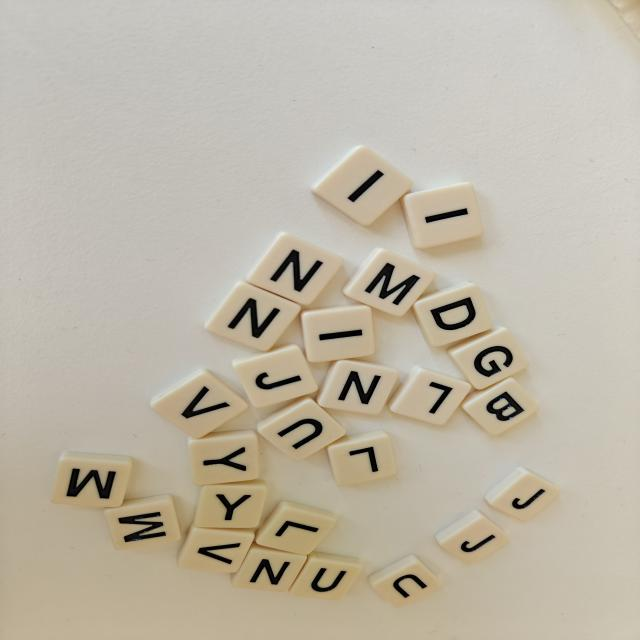b: (462, 378, 539, 435)
d: (412, 282, 492, 346)
g: (447, 327, 529, 389)
i: (312, 146, 412, 226), (400, 183, 482, 248), (301, 304, 375, 362)
j: (232, 344, 317, 408), (484, 467, 560, 520), (435, 510, 509, 564)
l: (389, 366, 471, 425), (256, 501, 336, 555), (327, 430, 396, 486)
m: (343, 248, 435, 316), (51, 451, 132, 507), (104, 494, 181, 550)
n: (247, 232, 342, 305), (205, 282, 301, 351), (316, 360, 398, 414), (231, 543, 307, 591)
u: (258, 397, 345, 461), (368, 555, 441, 607), (290, 551, 362, 600)
v: (150, 369, 248, 438), (177, 525, 254, 573)
y: (188, 430, 259, 485), (194, 479, 267, 528)
